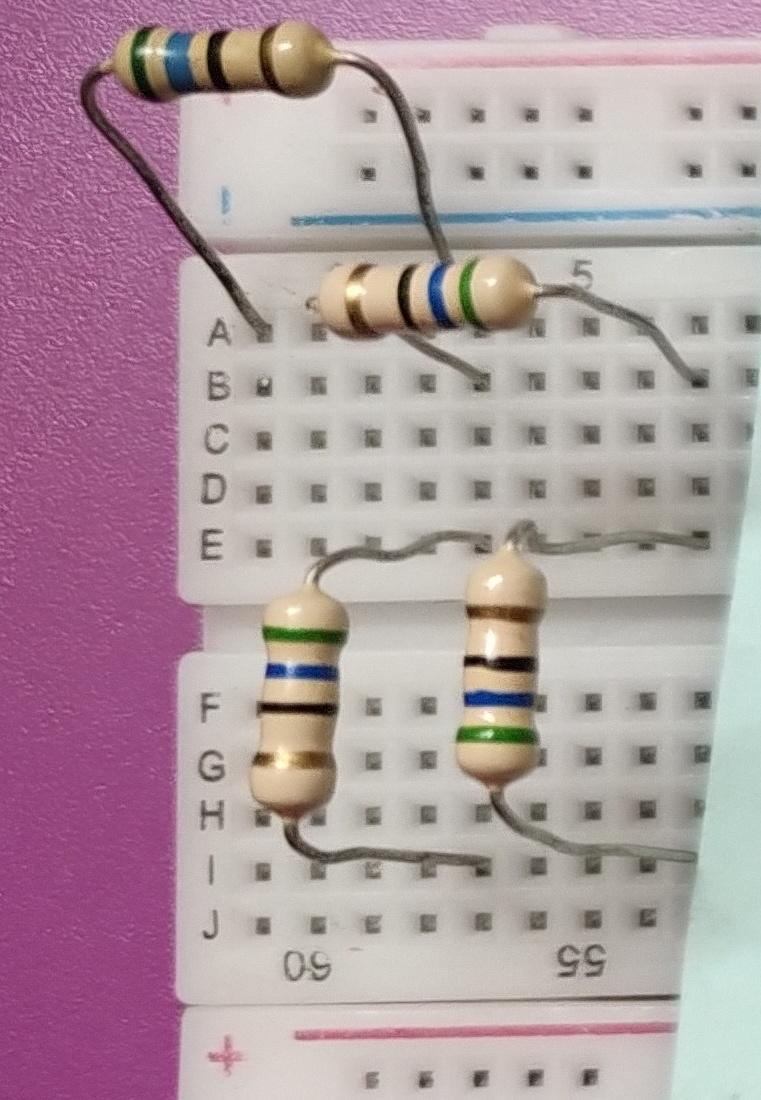resistor: (239, 577, 374, 826), (445, 537, 549, 795), (95, 13, 361, 107), (307, 241, 573, 335)
